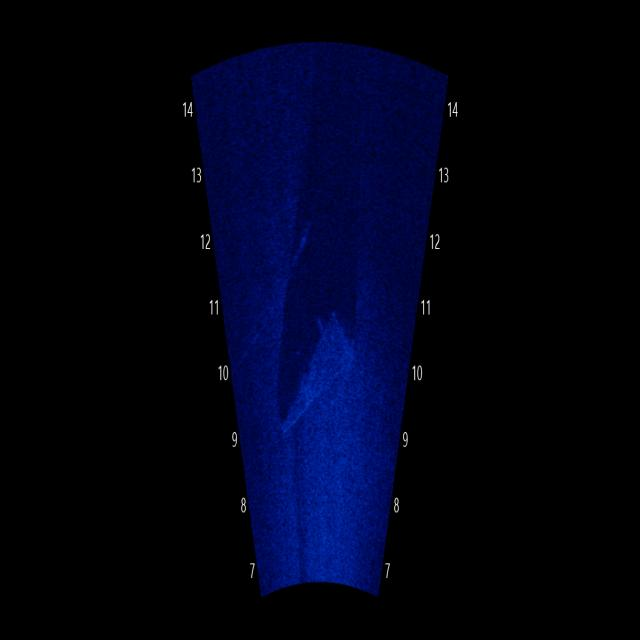triangle: (276, 299, 358, 455)
